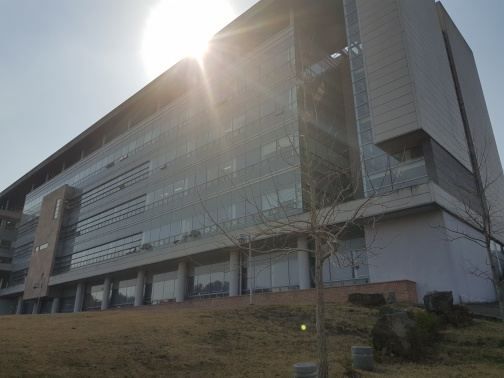Engineering College Building 4: (207, 5, 492, 304), (15, 116, 497, 292), (18, 26, 201, 301)
